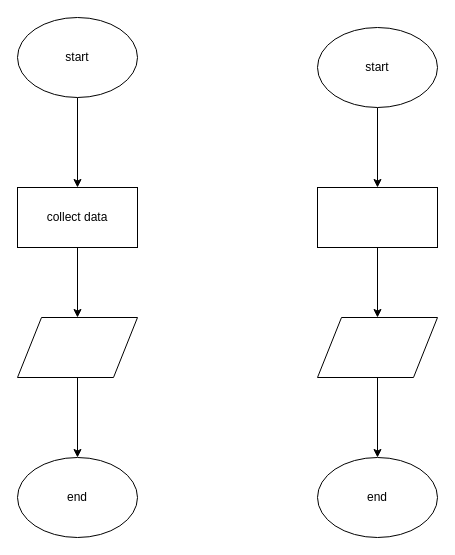
Some shapes in this 455 by 555 pixel diagram are drawn without their labels. The shapes that lost their labels are listed below. From the top down, each one's centre as x and y in pixels, then its label:
At (377,217): "construct request".
At (77,347): "transfer data".
At (377,347): "retreive Data".
